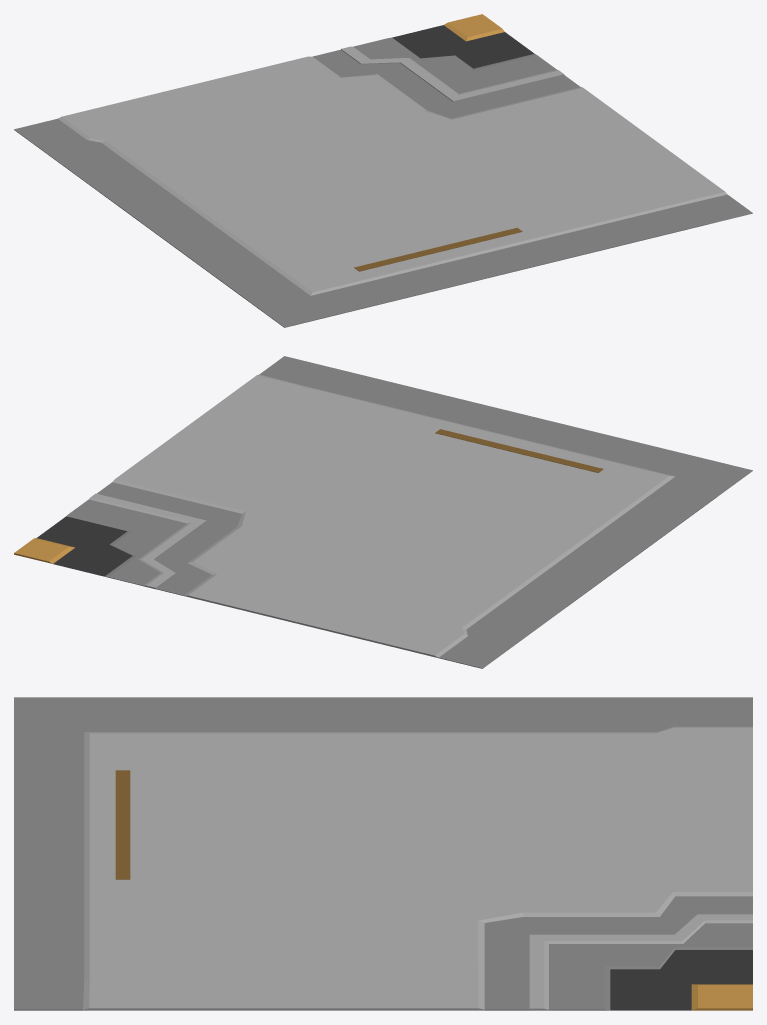
The model's file is FloorOuterCorner.fbx.
3 renders of one model, top to bottom at view 1: azimuth 30°, elevation 25°; view 2: azimuth 150°, elevation 25°; view 3: azimuth 270°, elevation 25°, orthographic. The views are drawn at different scales.
Visible parts, largest first — view 1: FloorTile_InnerCorner; view 2: FloorTile_InnerCorner; view 3: FloorTile_InnerCorner.
Boxes of the visible parts, bbox=[...] form: FloorTile_InnerCorner: bbox=[14, 14, 752, 327]; FloorTile_InnerCorner: bbox=[14, 356, 752, 668]; FloorTile_InnerCorner: bbox=[14, 697, 752, 1010].
Bounding box in the file's own units: 2 × 0.0083 × 2.
